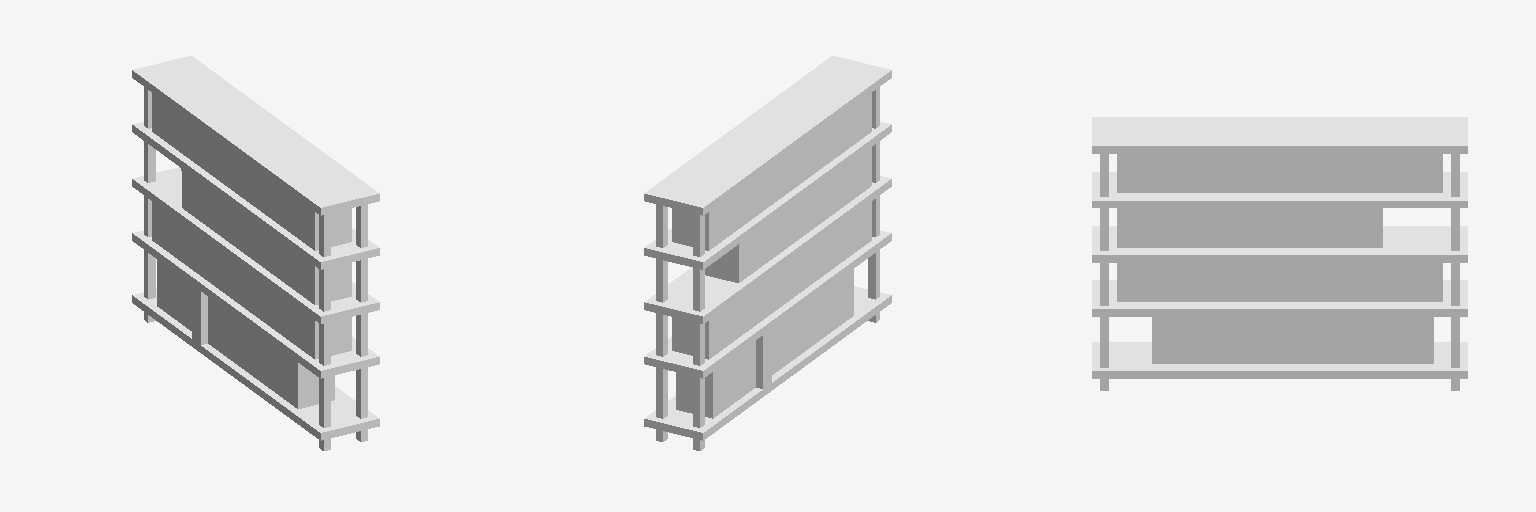
Rendered from Bookcases-3.obj.
The picture shows the model from 3 angles: view 1: azimuth 30°, elevation 25°; view 2: azimuth 150°, elevation 25°; view 3: azimuth 270°, elevation 25°; orthographic projection.
Visible parts, largest first — view 1: Bookcases-3; view 2: Bookcases-3; view 3: Bookcases-3.
Part boxes in pixels (x1,y1,x2,y2): Bookcases-3: (132,56,379,450); Bookcases-3: (644,56,891,450); Bookcases-3: (1092,117,1467,390).
Size of the model in its own units: 8 by 32 by 44.